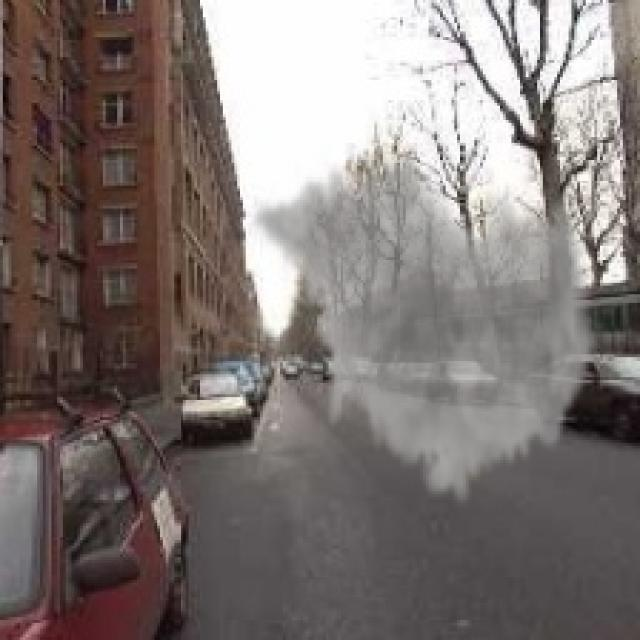Smoke: (248, 139, 600, 512)
